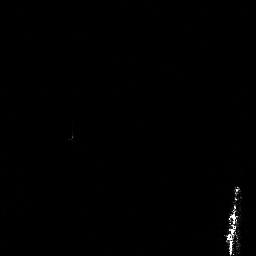ship: (224, 184, 242, 256)
